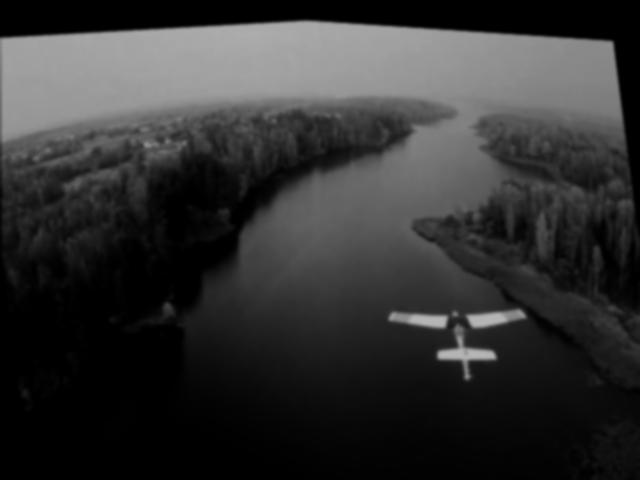hedef: (383, 280, 544, 389)
